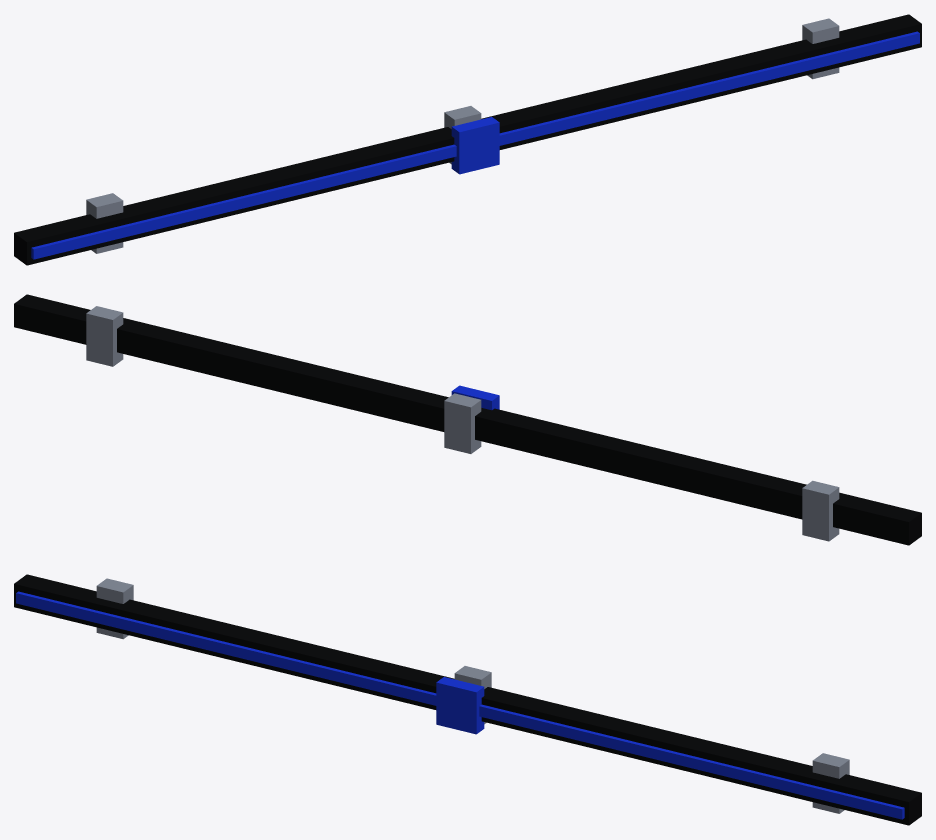
File: SM_Cable_Straight_2m_Blue.glb
3 renders of one model, top to bottom at view 1: azimuth 30°, elevation 25°; view 2: azimuth 150°, elevation 25°; view 3: azimuth 330°, elevation 25°, orthographic.
Visible parts, largest first — view 1: SM_Cable_Straight_2m_Blue; view 2: SM_Cable_Straight_2m_Blue; view 3: SM_Cable_Straight_2m_Blue.
Boxes of the visible parts, box(x1,y1,x2,y2) form: SM_Cable_Straight_2m_Blue: box(14, 14, 921, 265); SM_Cable_Straight_2m_Blue: box(14, 294, 921, 545); SM_Cable_Straight_2m_Blue: box(14, 574, 921, 825).
Bounding box in the file's own units: 2 × 0.1 × 0.085.
